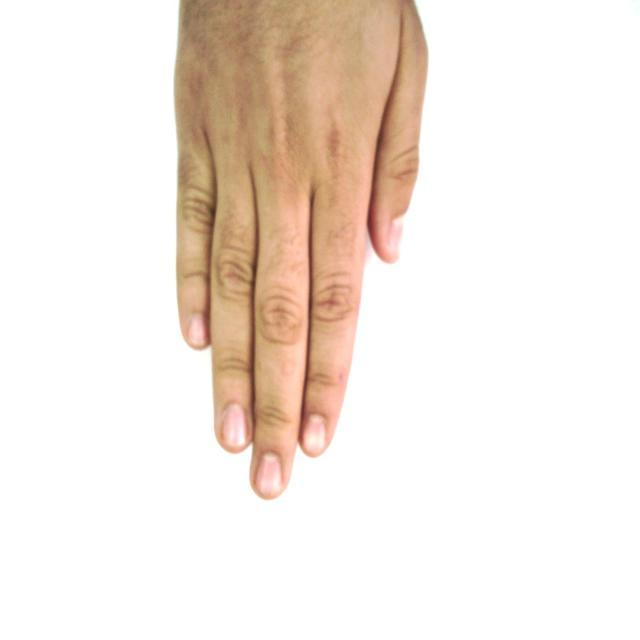Fingernail: (258, 454, 282, 497), (223, 405, 247, 447), (304, 416, 325, 454), (389, 219, 403, 259), (188, 315, 206, 345)
